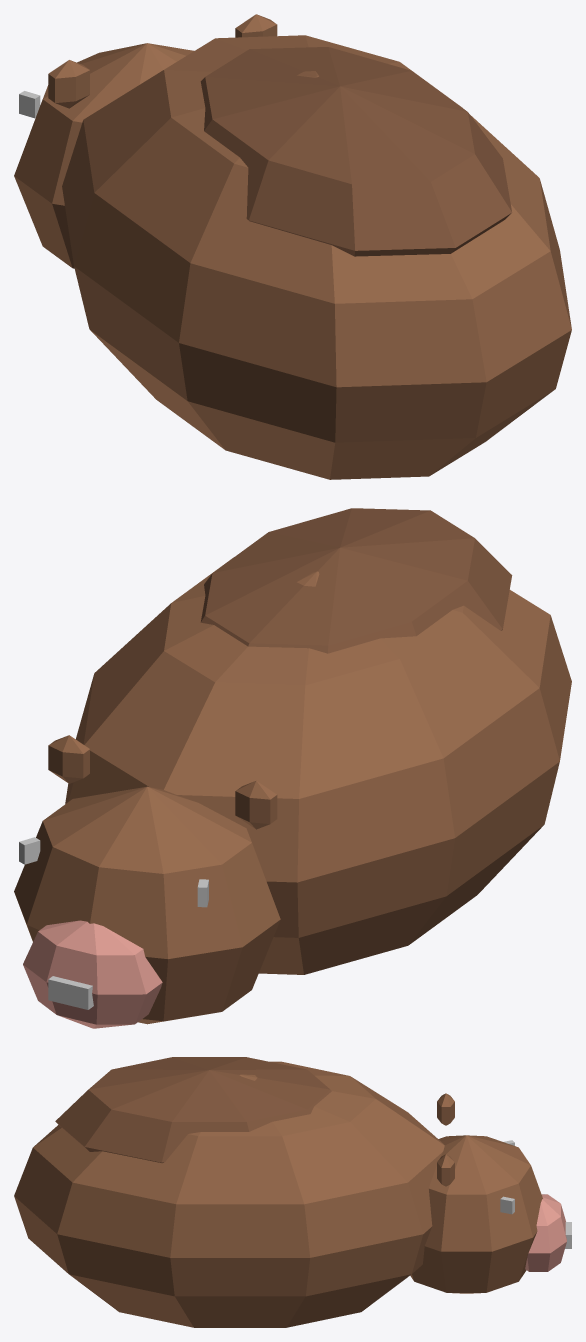
Rendered from animal_megavole.obj.
3 views of the same model, one above another, from view 1: azimuth 30°, elevation 25°; view 2: azimuth 150°, elevation 25°; view 3: azimuth 270°, elevation 25° (orthographic). The views are drawn at different scales.
Parts seen in each view (by area): view 1: animal_megavole; view 2: animal_megavole; view 3: animal_megavole.
Part boxes in pixels (x1,y1,x2,y2): animal_megavole: (14, 14, 571, 479); animal_megavole: (14, 508, 571, 1028); animal_megavole: (14, 1057, 571, 1327).
Size of the model in its own units: 0.5706 by 0.53 by 1.08.
